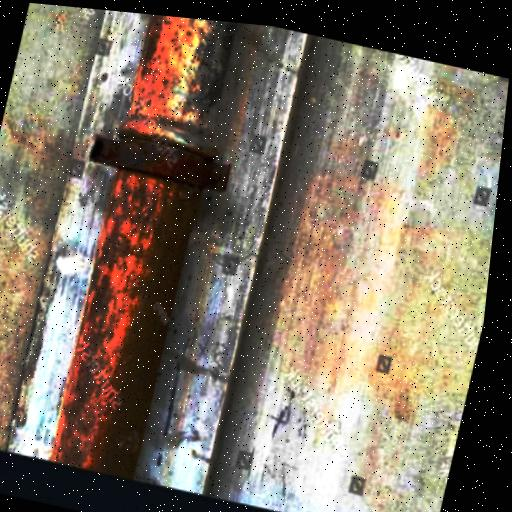corrosion: (35, 124, 221, 480)
